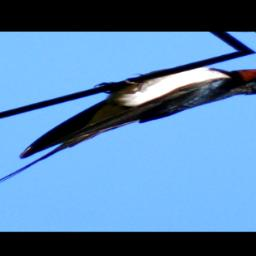Swallow: (0, 43, 256, 221)
